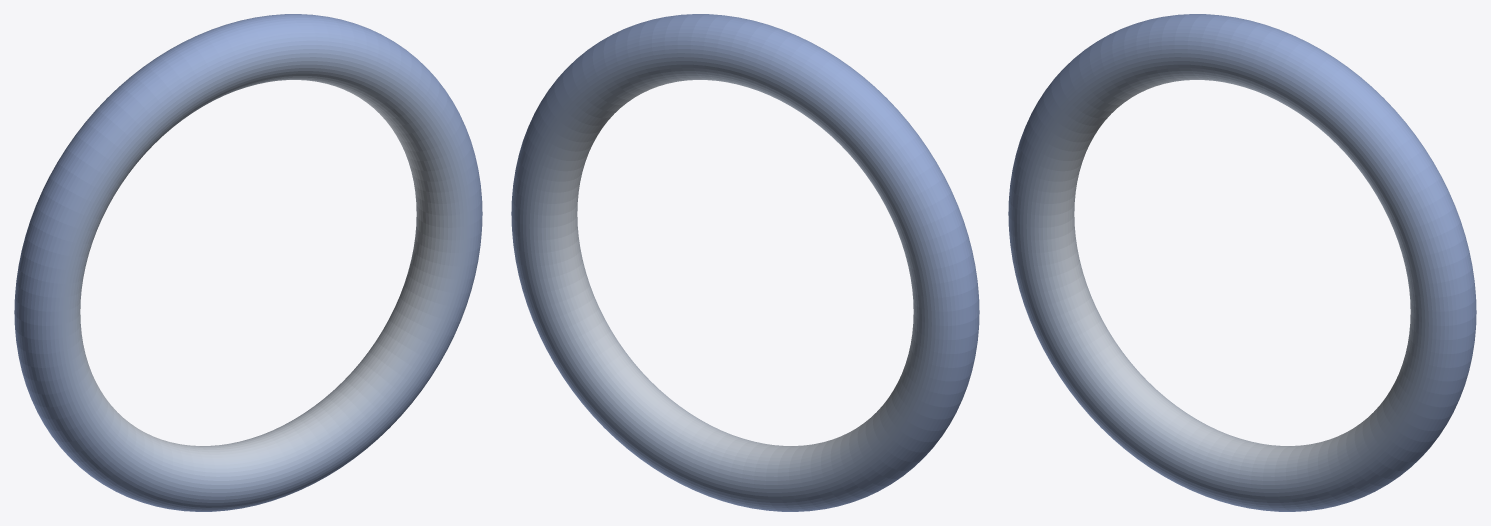
3 views of the same model, side by side, from view 1: azimuth 30°, elevation 25°; view 2: azimuth 150°, elevation 25°; view 3: azimuth 330°, elevation 25° (orthographic).
Parts seen in each view (by area): view 1: world; view 2: world; view 3: world.
Part boxes in pixels (bbox=[...]): world: bbox=[14, 14, 482, 511]; world: bbox=[511, 14, 979, 511]; world: bbox=[1008, 14, 1476, 511].
Bounding box in the file's own units: 28.93 × 28.93 × 3.59.
